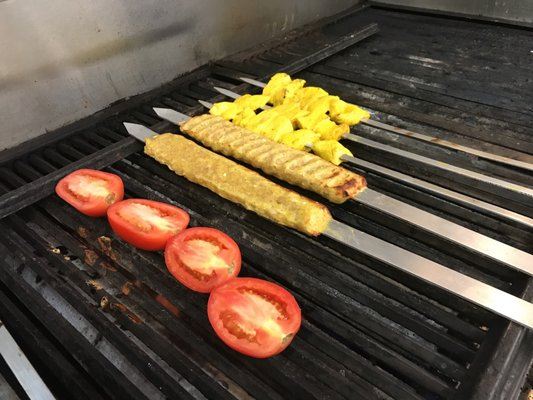burger: (13, 4, 533, 400)
